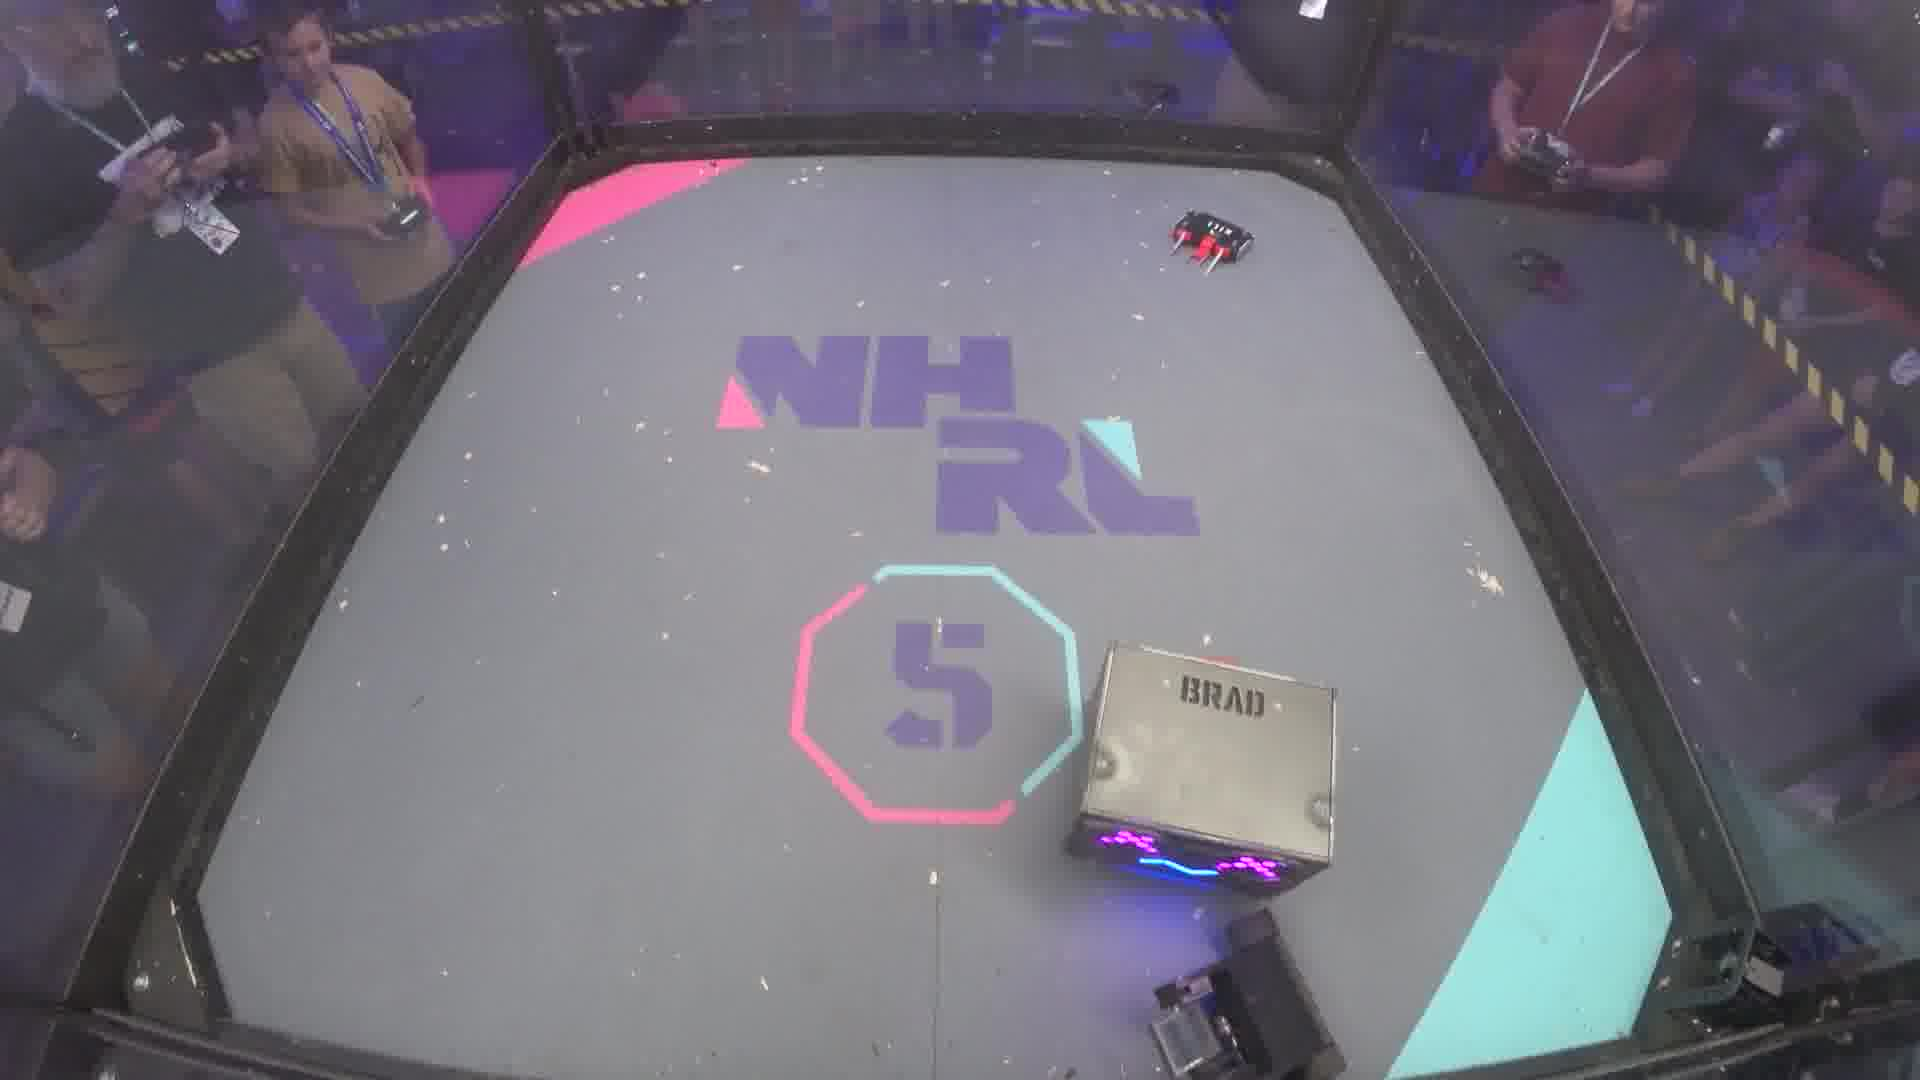combatbot: (1142, 909, 1353, 1080), (1171, 206, 1254, 260)
housebot: (1071, 640, 1340, 909)
